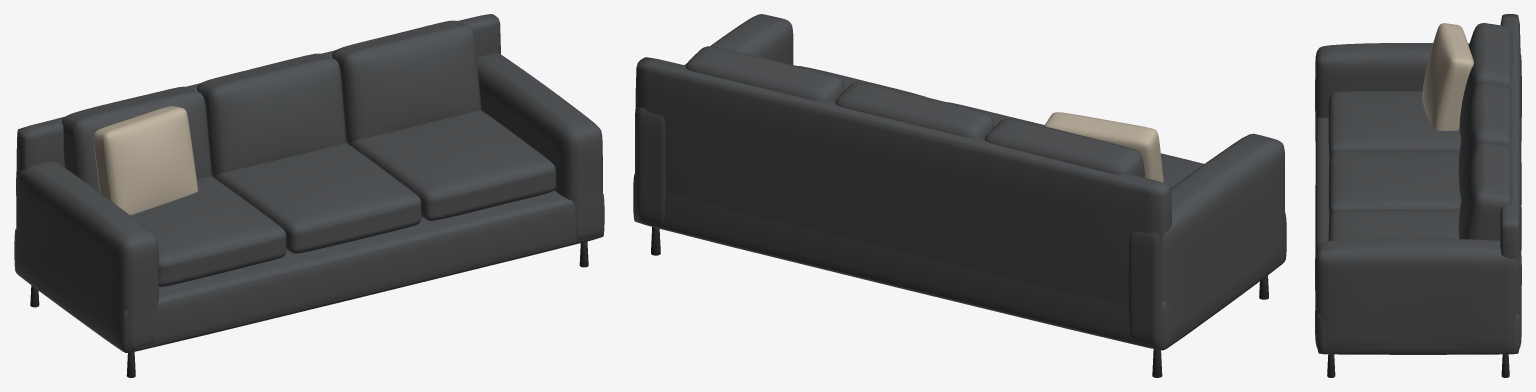
File: sofa.glb
The picture shows the model from 3 angles, left to right: view 1: azimuth 30°, elevation 25°; view 2: azimuth 150°, elevation 25°; view 3: azimuth 270°, elevation 25°; orthographic projection. The views are drawn at different scales.
Parts seen in each view (by area): view 1: Gestell, Armlehne-1, Sitzkissen1, Sitzkissen2, Rückenkissen1, Rückenkissen2, Armlehne1, Sitzkissen0, Zierkissen, Rückenkissen0, Rücken; view 2: Rücken, Armlehne-1, Gestell, Armlehne1, Rückenkissen0, Rückenkissen2, Rückenkissen1, Zierkissen, Sitzkissen0; view 3: Armlehne1, Sitzkissen1, Sitzkissen0, Armlehne-1, Rückenkissen2, Gestell, Zierkissen, Sitzkissen2, Rücken, Rückenkissen1, Rückenkissen0, Bein1 (+1 smaller).
Boxes of the visible parts, bbox=[...] form: Gestell: bbox=[14, 190, 604, 352]; Armlehne-1: bbox=[16, 161, 158, 349]; Sitzkissen1: bbox=[212, 142, 421, 253]; Sitzkissen2: bbox=[348, 110, 556, 220]; Rückenkissen1: bbox=[197, 53, 345, 176]; Rückenkissen2: bbox=[332, 20, 481, 143]; Armlehne1: bbox=[477, 53, 602, 240]; Sitzkissen0: bbox=[130, 176, 286, 286]; Zierkissen: bbox=[93, 106, 197, 215]; Rückenkissen0: bbox=[62, 86, 211, 192]; Rücken: bbox=[16, 14, 500, 170]; Rücken: bbox=[635, 57, 1171, 347]; Armlehne-1: bbox=[1128, 133, 1285, 347]; Gestell: bbox=[633, 173, 1286, 350]; Armlehne1: bbox=[635, 14, 793, 224]; Rückenkissen0: bbox=[985, 119, 1145, 177]; Rückenkissen2: bbox=[686, 46, 844, 101]; Rückenkissen1: bbox=[835, 82, 993, 137]; Zierkissen: bbox=[1044, 112, 1163, 182]; Sitzkissen0: bbox=[1161, 153, 1203, 187]; Armlehne1: bbox=[1315, 238, 1521, 349]; Sitzkissen1: bbox=[1328, 150, 1461, 220]; Sitzkissen0: bbox=[1328, 91, 1461, 158]; Armlehne-1: bbox=[1315, 43, 1521, 146]; Rückenkissen2: bbox=[1458, 141, 1512, 240]; Gestell: bbox=[1315, 117, 1521, 354]; Zierkissen: bbox=[1422, 23, 1473, 130]; Sitzkissen2: bbox=[1328, 209, 1459, 240]; Rücken: bbox=[1500, 14, 1521, 311]; Rückenkissen1: bbox=[1458, 82, 1512, 198]; Rückenkissen0: bbox=[1459, 23, 1512, 138]; Bein1: bbox=[1327, 354, 1335, 377].
Size of the model in its own units: 2.2 by 0.8224 by 0.9016.
